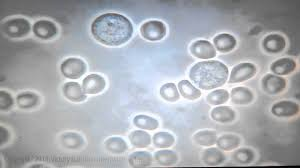Malaria: (138, 20, 167, 41), (61, 58, 87, 79), (3, 18, 29, 38), (60, 133, 88, 151), (231, 63, 255, 84), (15, 91, 39, 111), (262, 34, 286, 54), (274, 99, 299, 118), (132, 113, 159, 130), (191, 130, 218, 147), (32, 20, 56, 39), (190, 39, 215, 57), (83, 75, 106, 94), (213, 33, 236, 52), (128, 130, 152, 148), (63, 83, 84, 103), (105, 136, 128, 153), (160, 83, 178, 100)
